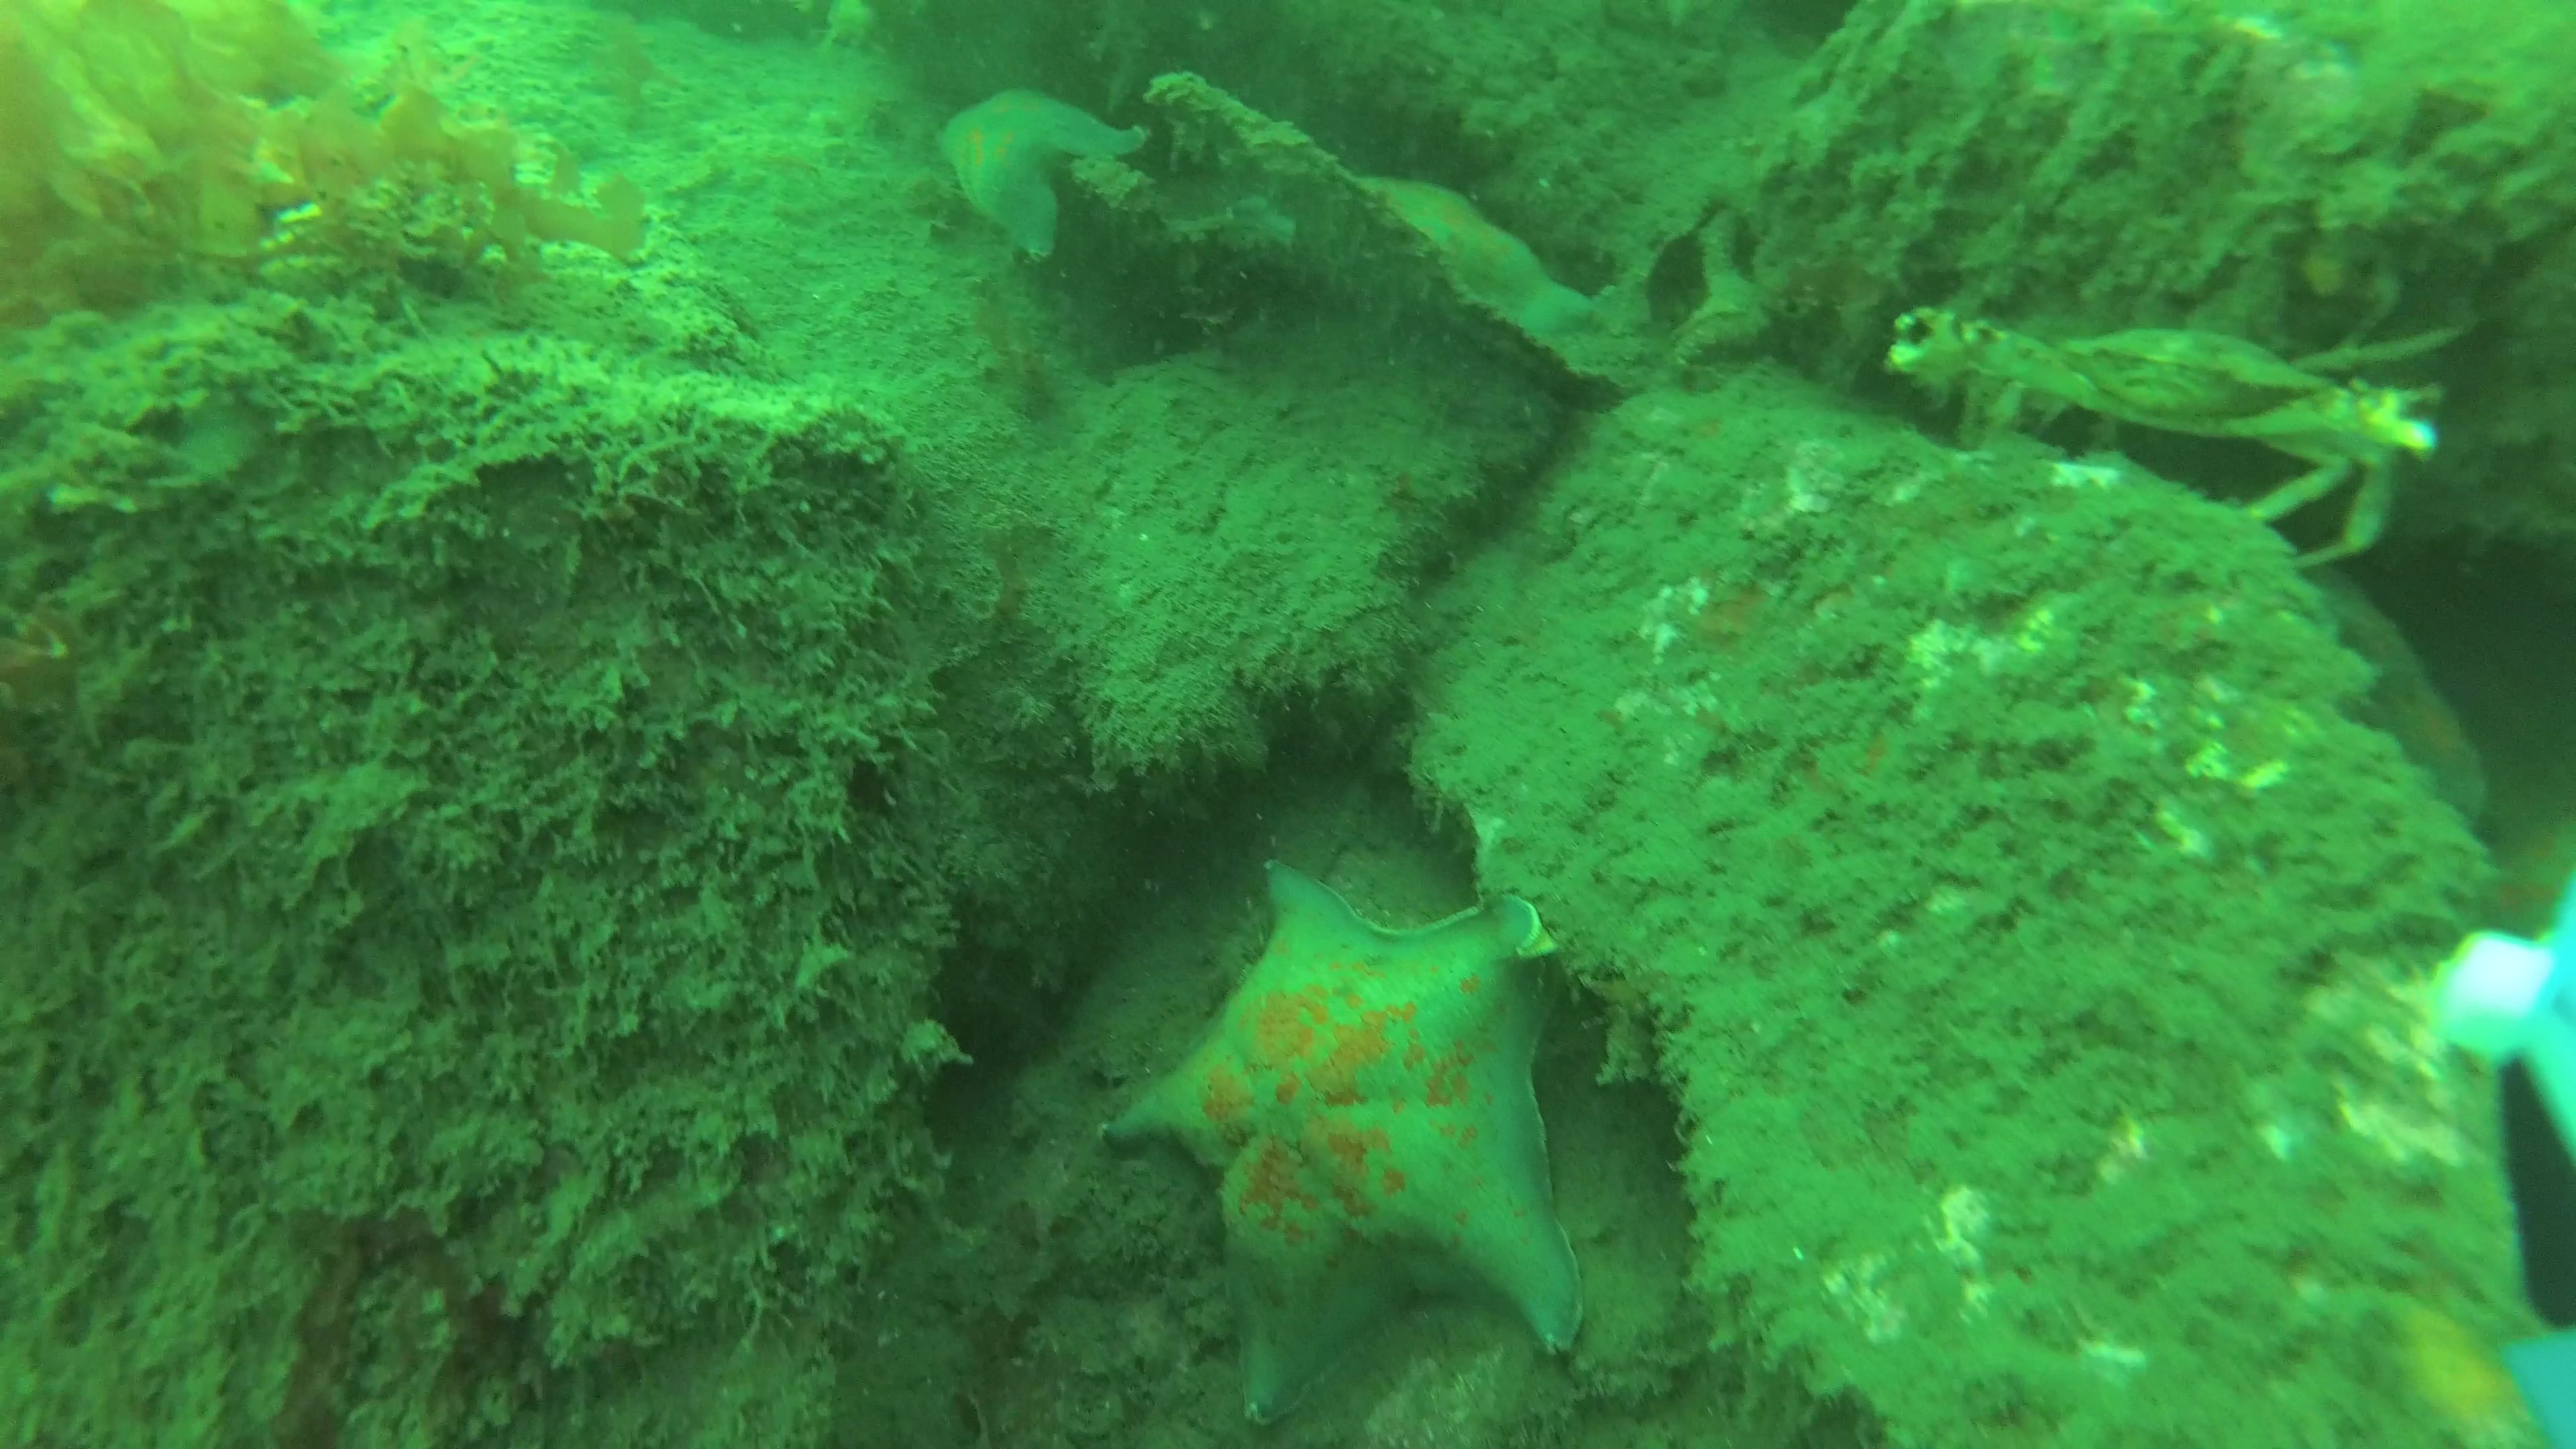starfish: (1093, 856, 1589, 1426), (1341, 172, 1591, 341), (943, 83, 1150, 269)
